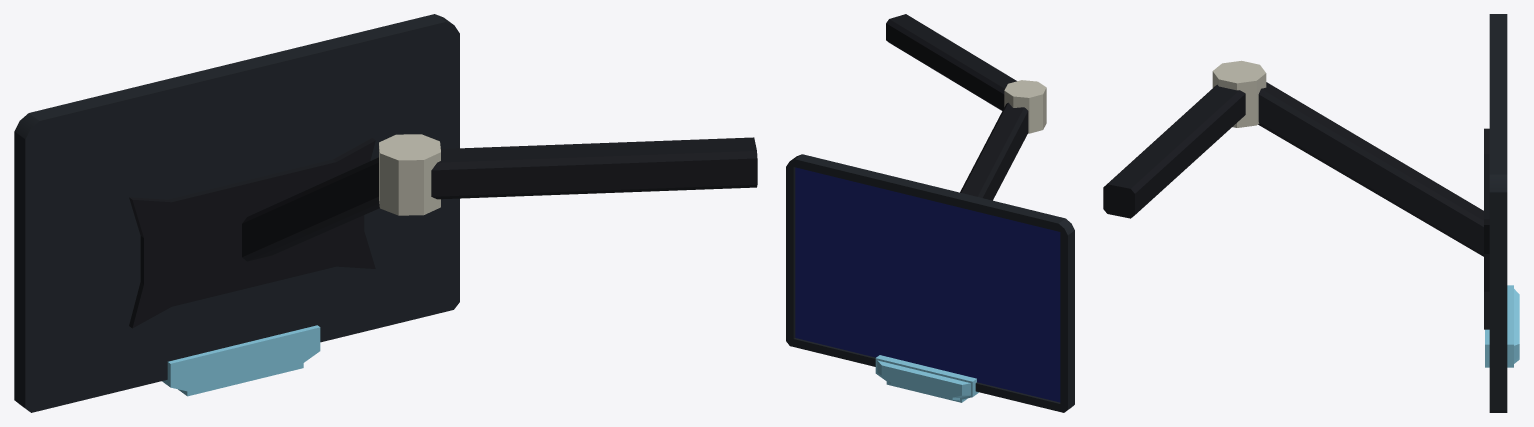
File: SM_tv_hinged.fbx
3 views of the same model, side by side, from view 1: azimuth 30°, elevation 25°; view 2: azimuth 150°, elevation 25°; view 3: azimuth 270°, elevation 25° (orthographic). The views are drawn at different scales.
Parts seen in each view (by area): view 1: tv_hinged; view 2: tv_hinged; view 3: tv_hinged.
Part boxes in pixels (x1,y1,x2,y2): tv_hinged: (14, 14, 757, 412); tv_hinged: (786, 14, 1074, 412); tv_hinged: (1103, 14, 1519, 412).
Bounding box in the file's own units: 131 × 84.29 × 115.
